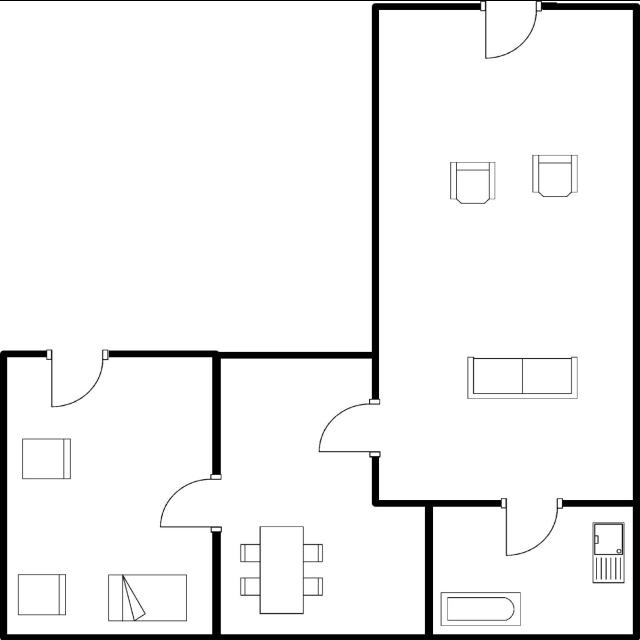armchair: (444, 156, 500, 210), (528, 148, 582, 202)
bed: (101, 568, 195, 626)
dining_table: (236, 522, 328, 619)
large_sofa: (462, 351, 586, 403)
sink: (589, 517, 628, 587)
small_sofa: (19, 432, 78, 483), (14, 570, 70, 618)
tub: (435, 588, 527, 628)
